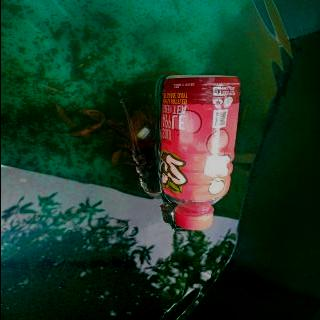bottle: (154, 74, 242, 230)
